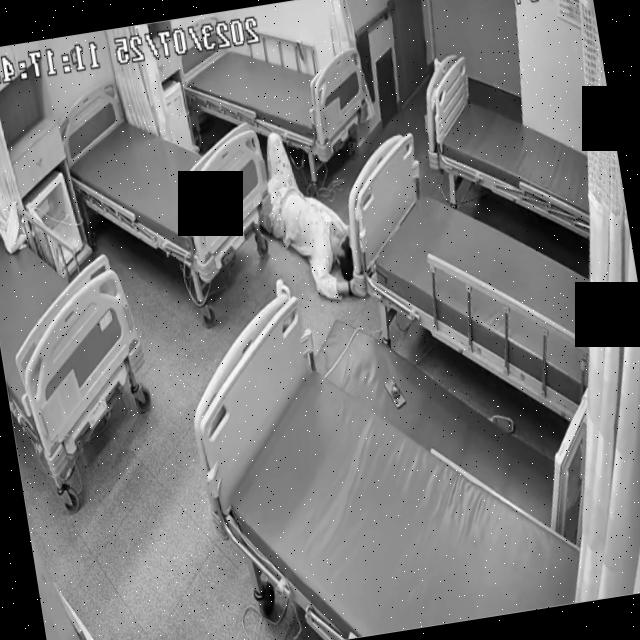bed: (185, 263, 589, 640), (338, 113, 614, 439), (0, 172, 156, 483), (58, 69, 280, 279), (414, 36, 601, 255), (177, 9, 370, 179)
fall: (246, 122, 362, 310)
patient: (246, 122, 363, 308)
